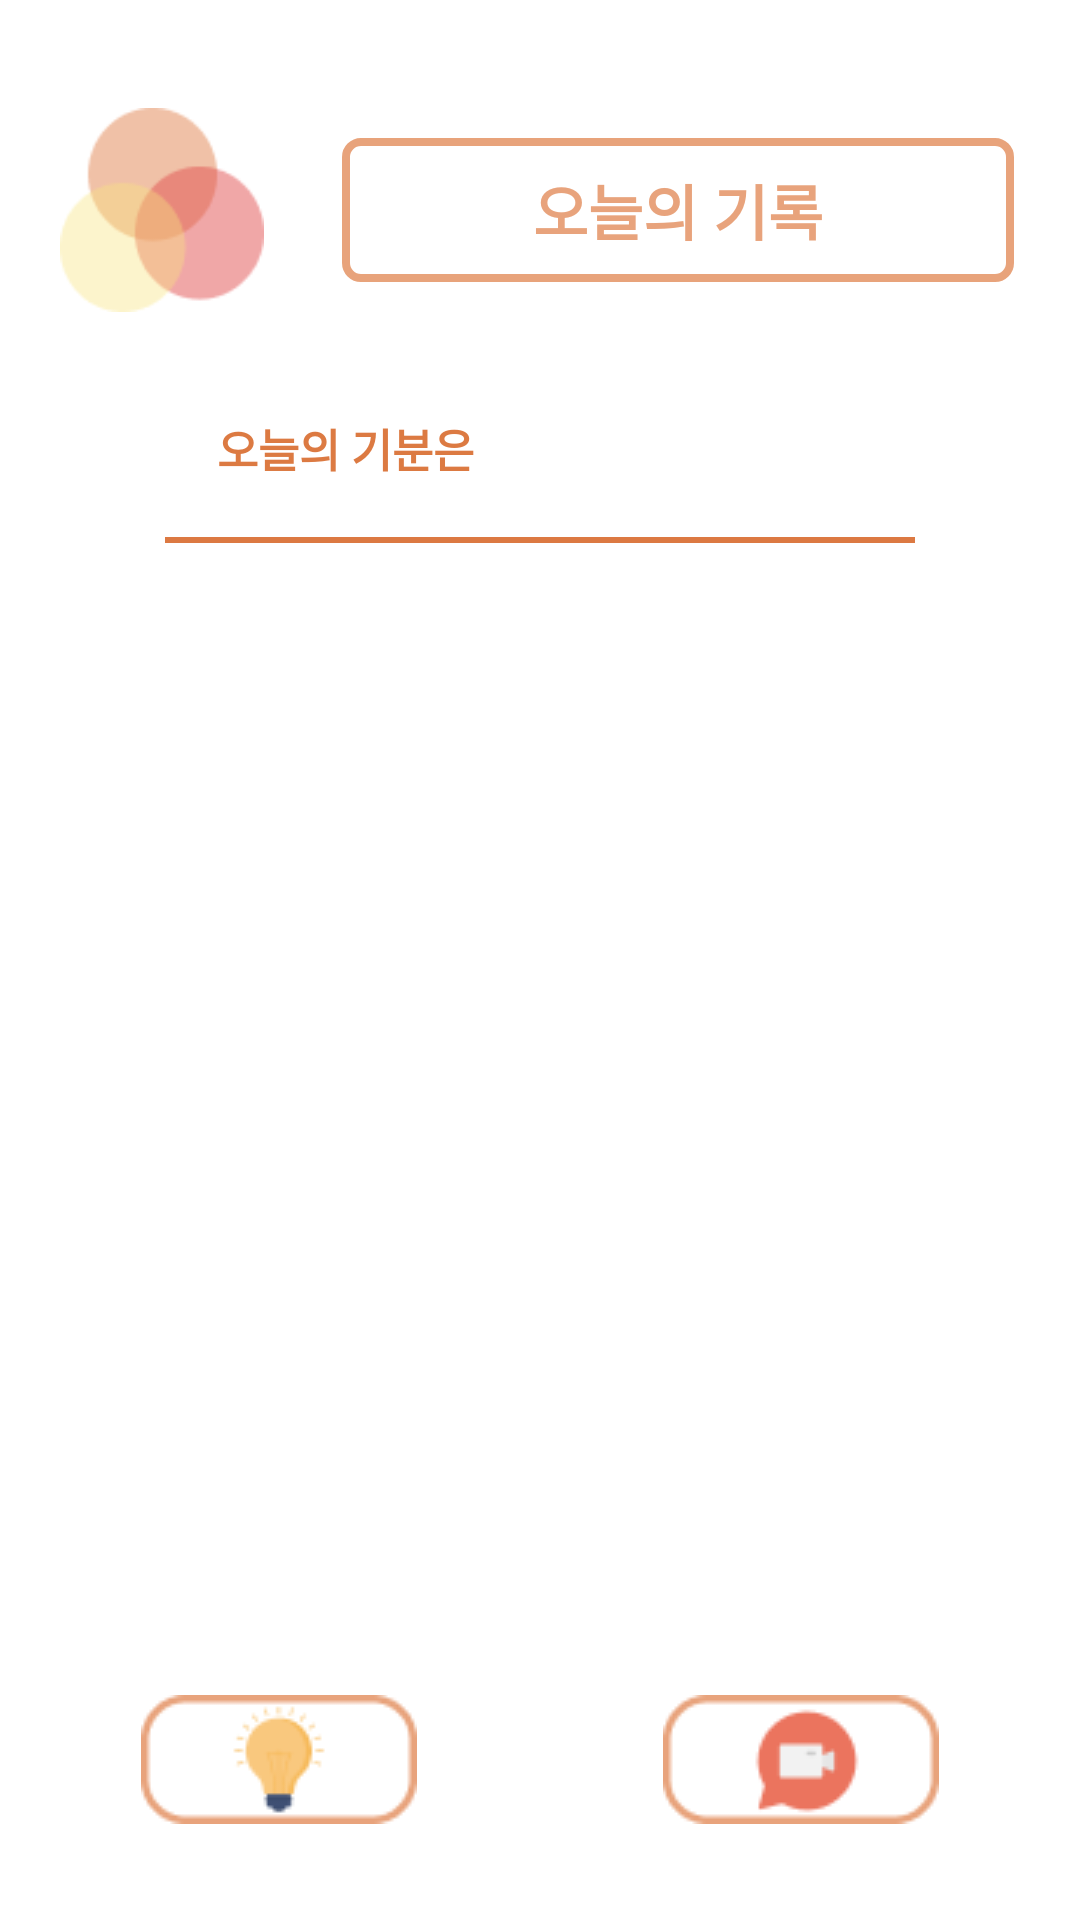

Icon bounding boxes for this 1080px×1920px phone screenshot, format bbox=(x1, y1, x2, y2):
video: bbox=(663, 1695, 939, 1824)
